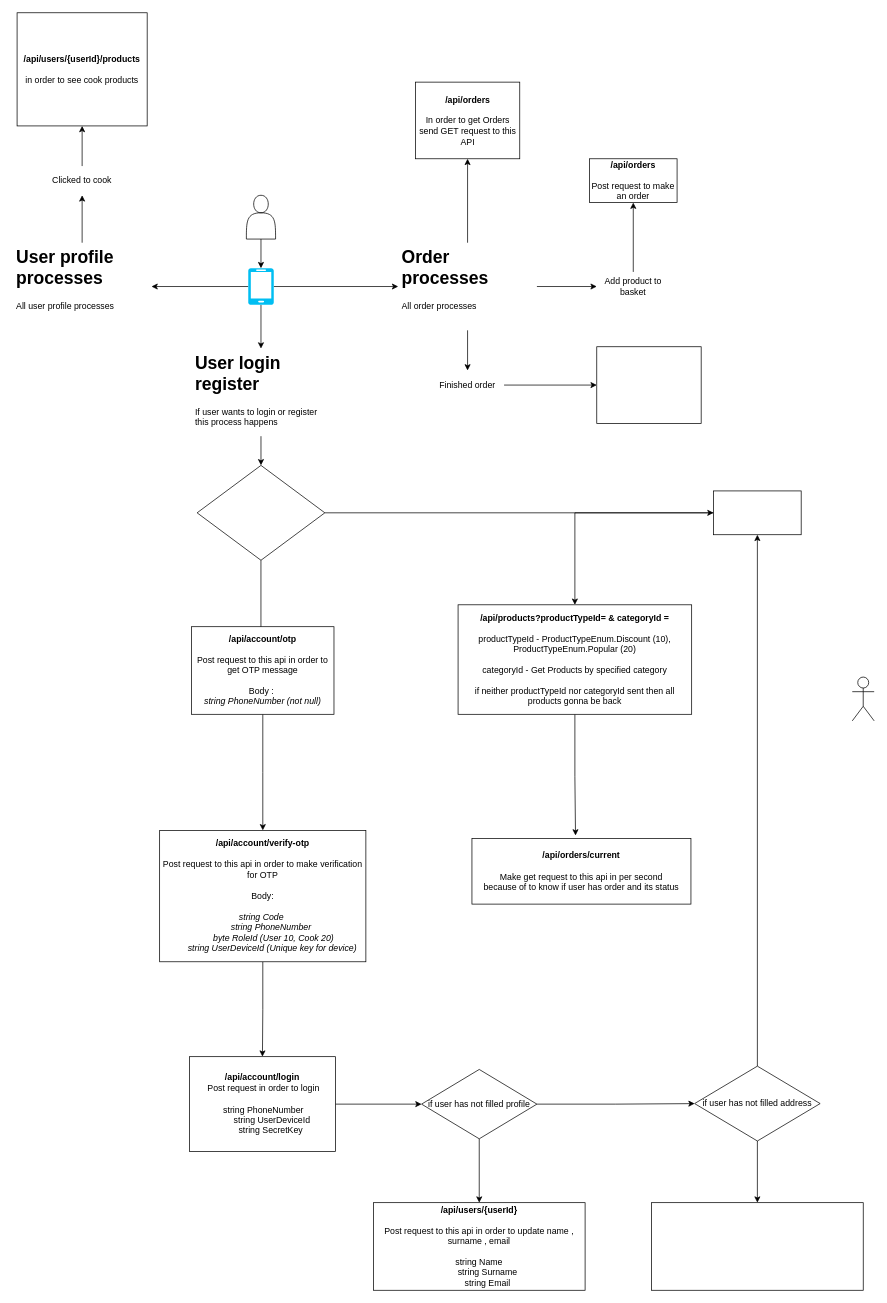
Image size: 887x1303. Some labels were removed from this diagram. The shapes that lost their labels are listed below. From the top down, each one's box as (x1, y1, x2, y2) in pixels, then its label:
(246, 195, 276, 239): user
(596, 346, 701, 423): /api/orders/{orderId} PUT request to this api int Rating string RatingNote
(196, 465, 325, 560): if user has logged out then
(713, 490, 801, 535): /api/categories Get all categories
(852, 676, 874, 721): Actor
(651, 1202, 863, 1290): /api/users/address Post request to this api in order to add address
